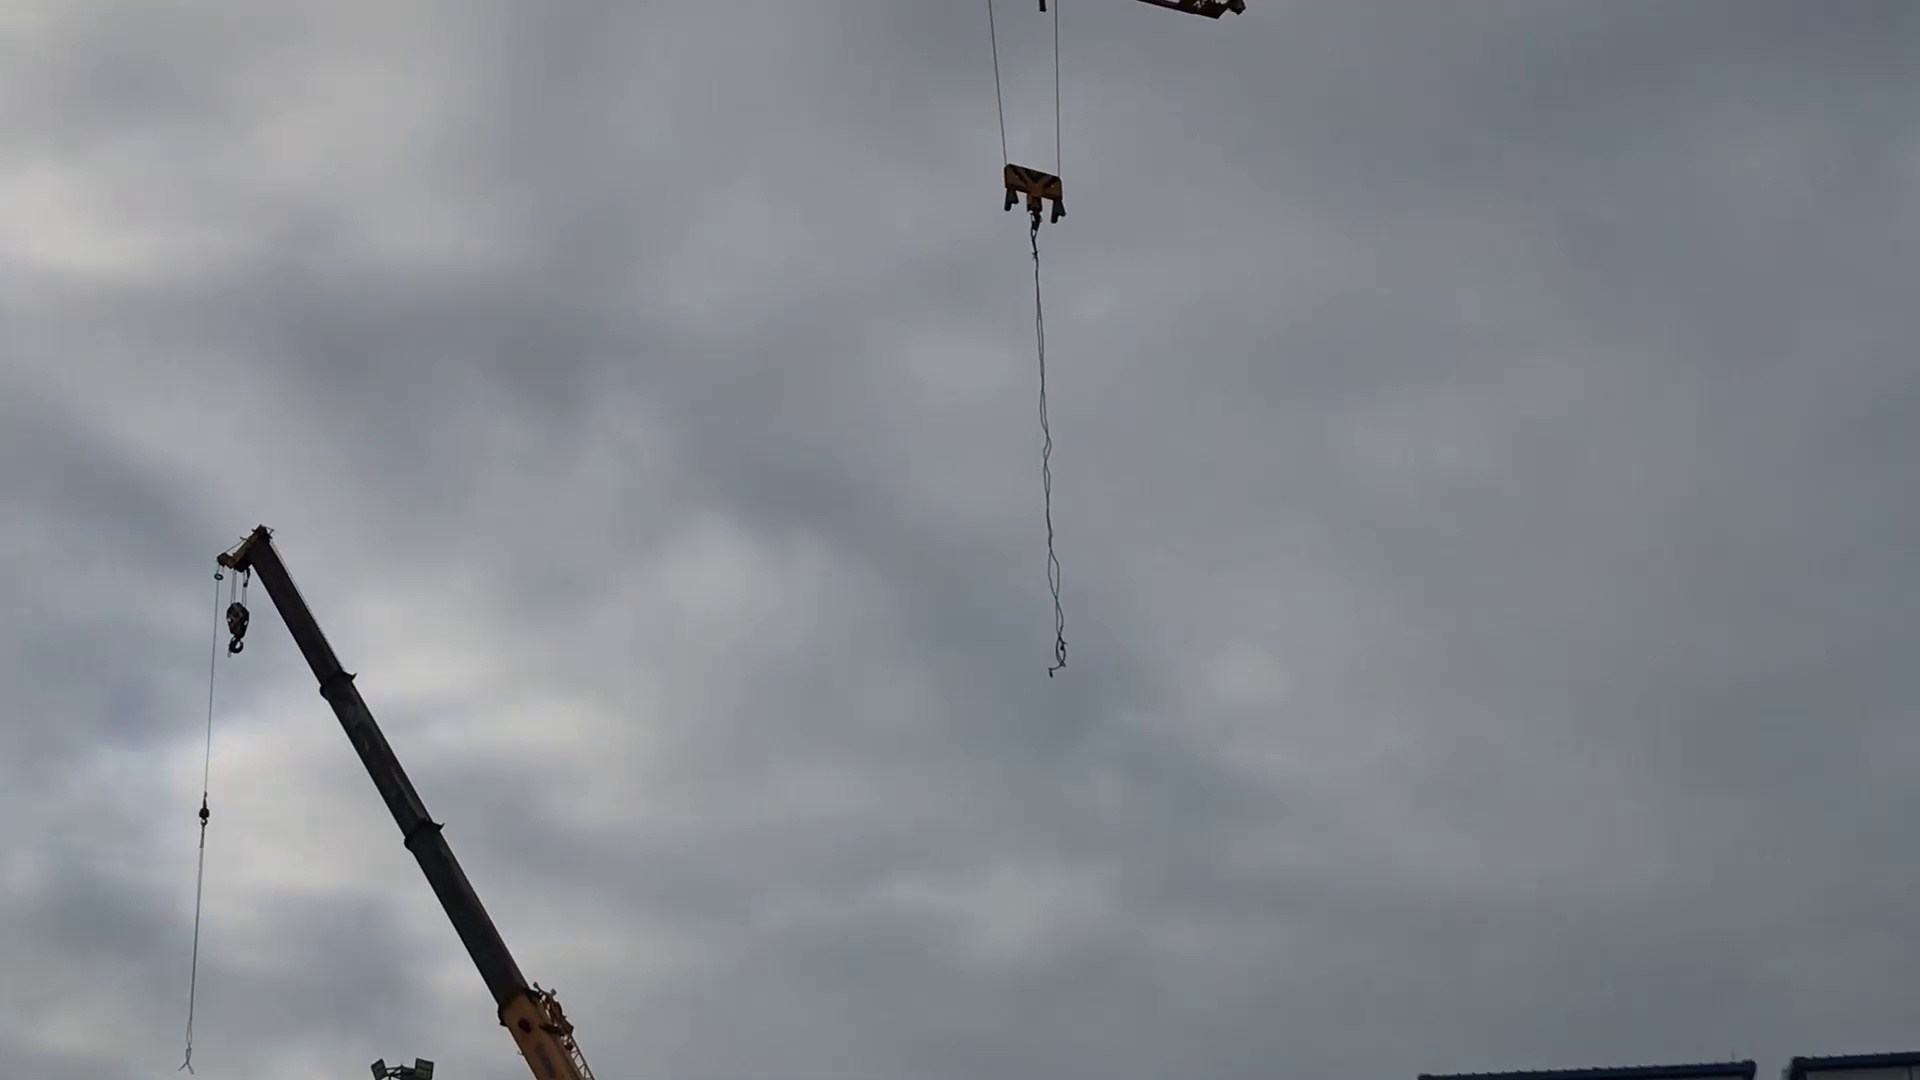hook: (997, 156, 1071, 233)
